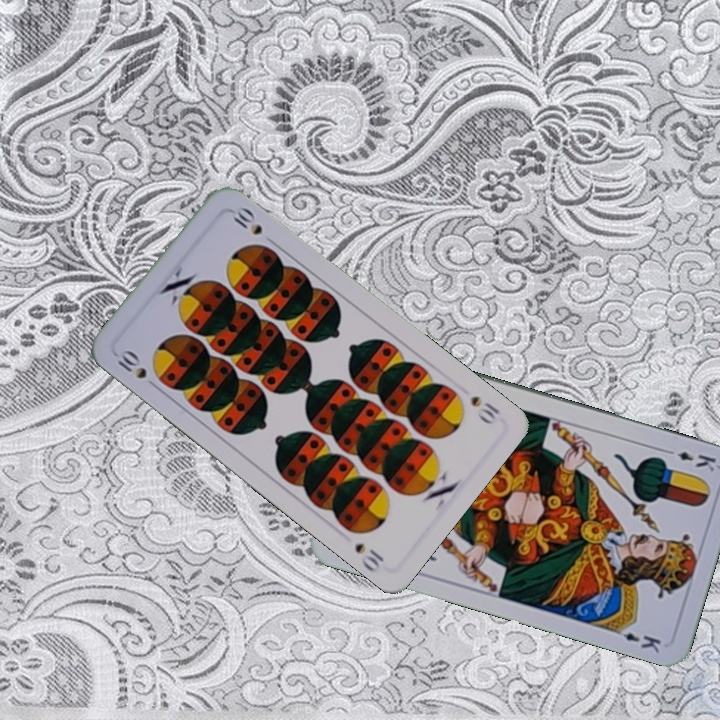EK: (660, 445, 719, 474)
S10: (112, 345, 161, 392), (466, 391, 503, 427)
